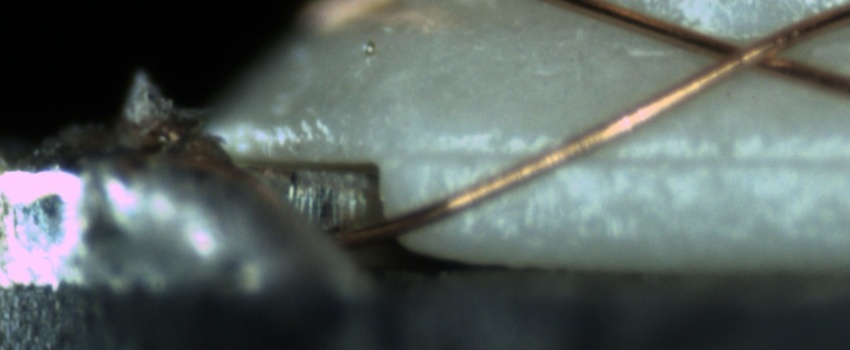CL: (686, 23, 804, 80)
DL: (412, 127, 850, 193)
